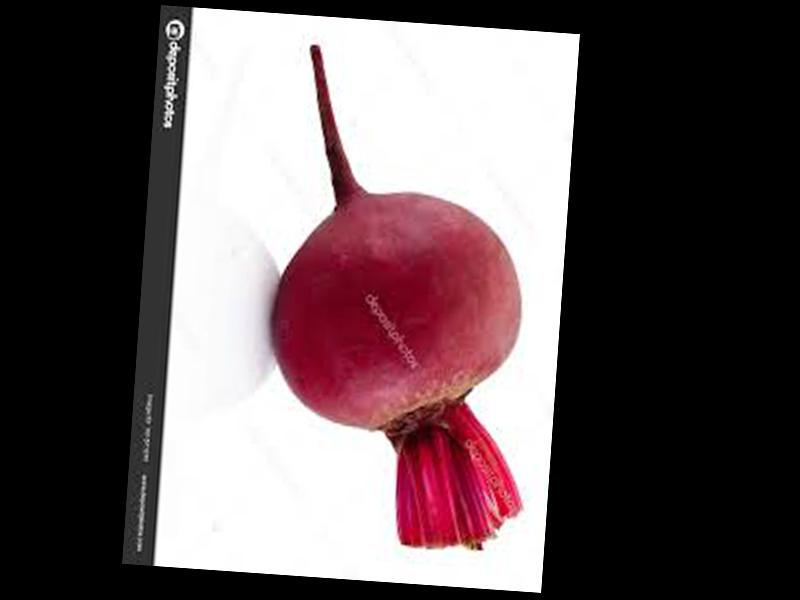Beet: (256, 43, 550, 555)
